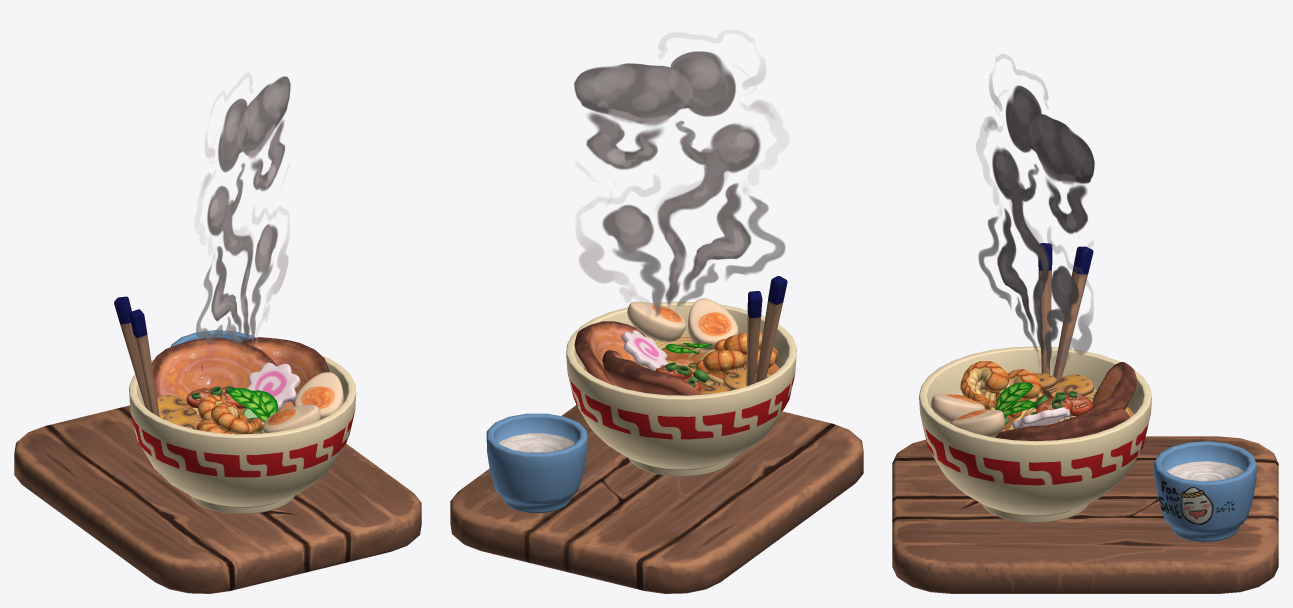
File: lowpoly_ramen_bowl.glb
3 views of the same model, side by side, from view 1: azimuth 30°, elevation 25°; view 2: azimuth 150°, elevation 25°; view 3: azimuth 270°, elevation 25° (orthographic). The views are drawn at different scales.
Visible parts, largest first — view 1: Table_30, Bowl_1, Plane.002_33, Beef.001_10, Beef_4, Pinwheel_5, Egg_3, Chopstick.001_14, Egg.001_11, Chopstick_6, Shrimp.002_16, Plane.001_31 (+2 smaller); view 2: Table_30, Plane.002_33, Bowl_1, Cylinder_32, Beef.001_10, Beef_4, Egg.001_11, Egg_3, Chopstick.001_14, Chopstick_6, Pinwheel_5, Shrimp.001_15 (+2 smaller); view 3: Table_30, Bowl_1, Plane.002_33, Cylinder_32, Beef_4, Beef.001_10, Chopstick_6, Shrimp.002_16, Chopstick.001_14, Egg_3, Egg.001_11, Mushroom_9 (+3 smaller).
Part boxes in pixels (left/top/right/bottom): Table_30: left=14, top=405, right=421, bottom=593; Bowl_1: left=129, top=355, right=356, bottom=513; Plane.002_33: left=194, top=72, right=290, bottom=356; Beef.001_10: left=152, top=337, right=276, bottom=406; Beef_4: left=242, top=337, right=329, bottom=406; Pinwheel_5: left=246, top=362, right=300, bottom=410; Egg_3: left=294, top=372, right=343, bottom=419; Chopstick.001_14: left=129, top=309, right=159, bottom=416; Egg.001_11: left=263, top=404, right=320, bottom=432; Chopstick_6: left=114, top=296, right=149, bottom=410; Shrimp.002_16: left=211, top=402, right=262, bottom=434; Plane.001_31: left=228, top=388, right=268, bottom=416; Table_30: left=450, top=405, right=863, bottom=593; Plane.002_33: left=574, top=30, right=789, bottom=320; Bowl_1: left=566, top=301, right=796, bottom=476; Cylinder_32: left=486, top=413, right=587, bottom=512; Beef.001_10: left=602, top=350, right=701, bottom=395; Beef_4: left=574, top=321, right=645, bottom=386; Egg.001_11: left=688, top=298, right=738, bottom=351; Egg_3: left=627, top=301, right=686, bottom=342; Chopstick.001_14: left=755, top=276, right=787, bottom=382; Chopstick_6: left=746, top=291, right=762, bottom=386; Pinwheel_5: left=621, top=330, right=668, bottom=371; Shrimp.001_15: left=696, top=350, right=746, bottom=373; Table_30: left=892, top=436, right=1278, bottom=593; Bowl_1: left=919, top=346, right=1151, bottom=522; Plane.002_33: left=976, top=54, right=1094, bottom=377; Cylinder_32: left=1154, top=441, right=1256, bottom=541; Beef_4: left=995, top=408, right=1130, bottom=440; Beef.001_10: left=1077, top=362, right=1136, bottom=416; Chopstick_6: left=1053, top=246, right=1093, bottom=379; Shrimp.002_16: left=960, top=361, right=1009, bottom=407; Chopstick.001_14: left=1038, top=243, right=1052, bottom=374; Egg_3: left=951, top=410, right=1005, bottom=437; Egg.001_11: left=930, top=394, right=984, bottom=423; Mushroom_9: left=1042, top=374, right=1093, bottom=398.
Size of the model in its own units: 5.6 by 9.42 by 7.
Materials: 15 (14 with a texture image).
